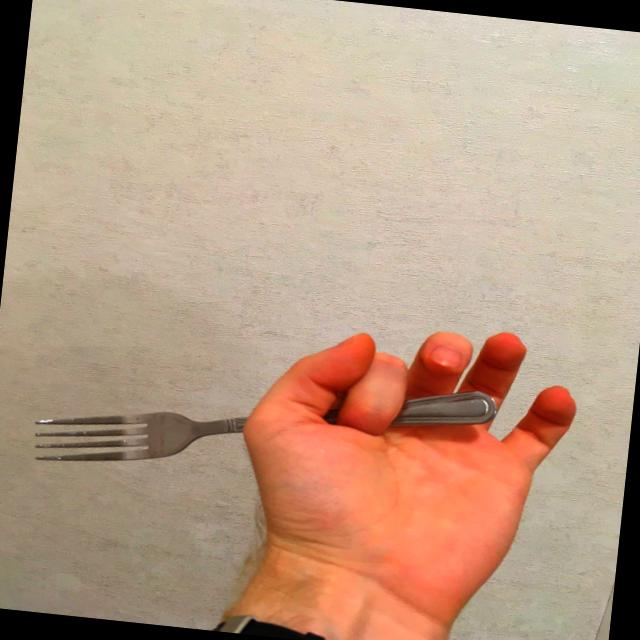fork: (29, 342, 501, 510)
